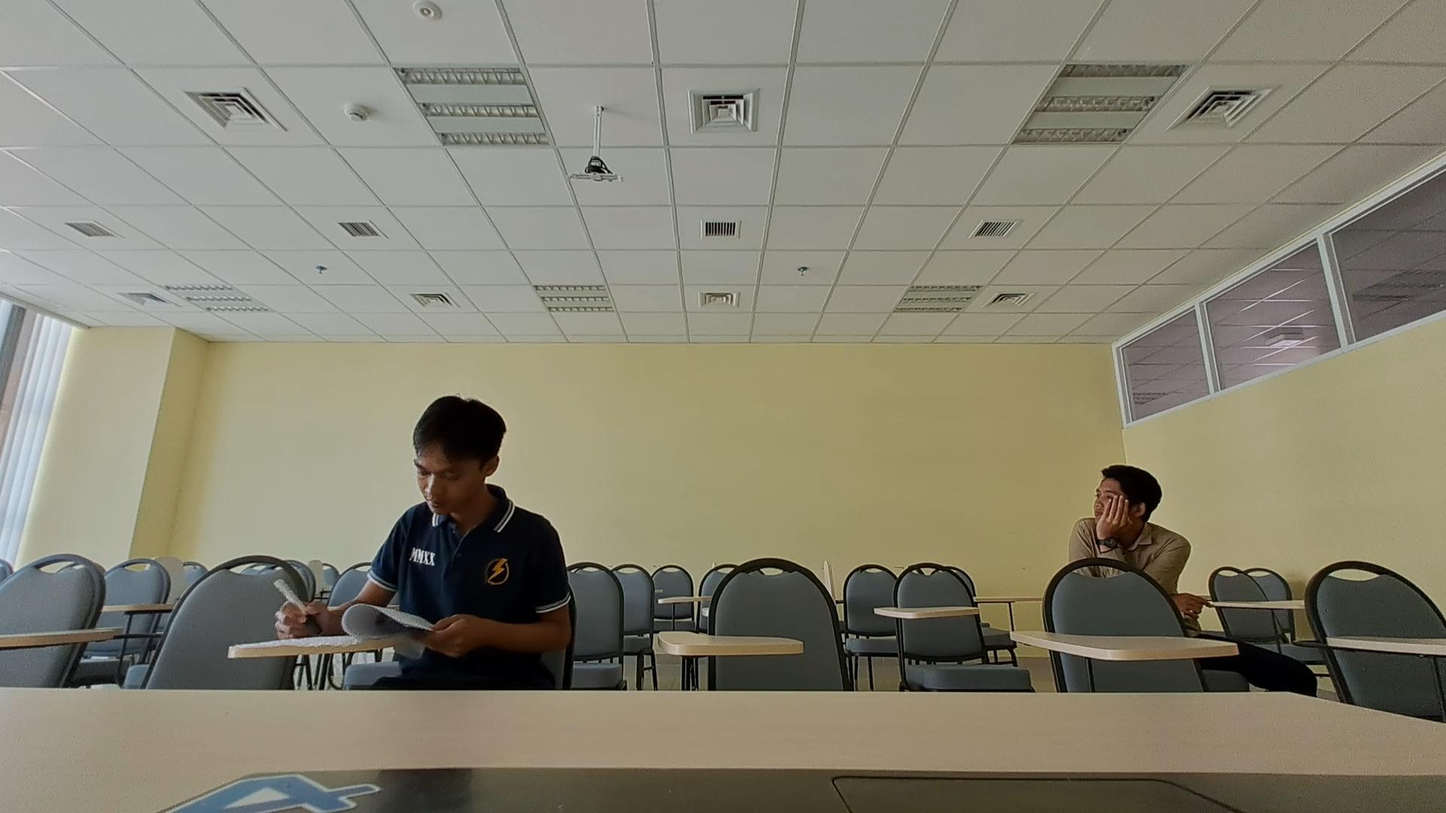study: (281, 395, 576, 689), (1041, 444, 1197, 644)
